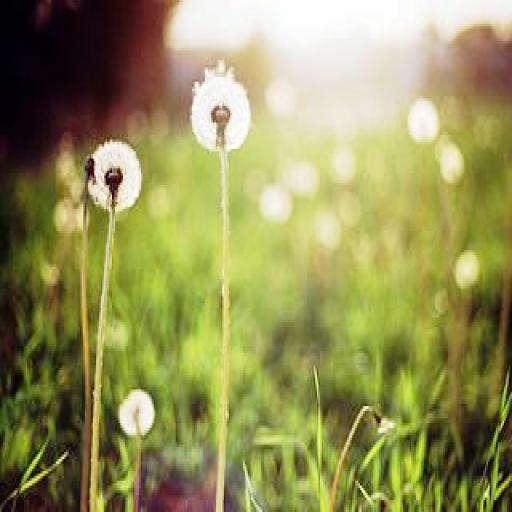dandelion: (190, 77, 252, 151), (86, 139, 142, 214), (118, 389, 156, 440)
